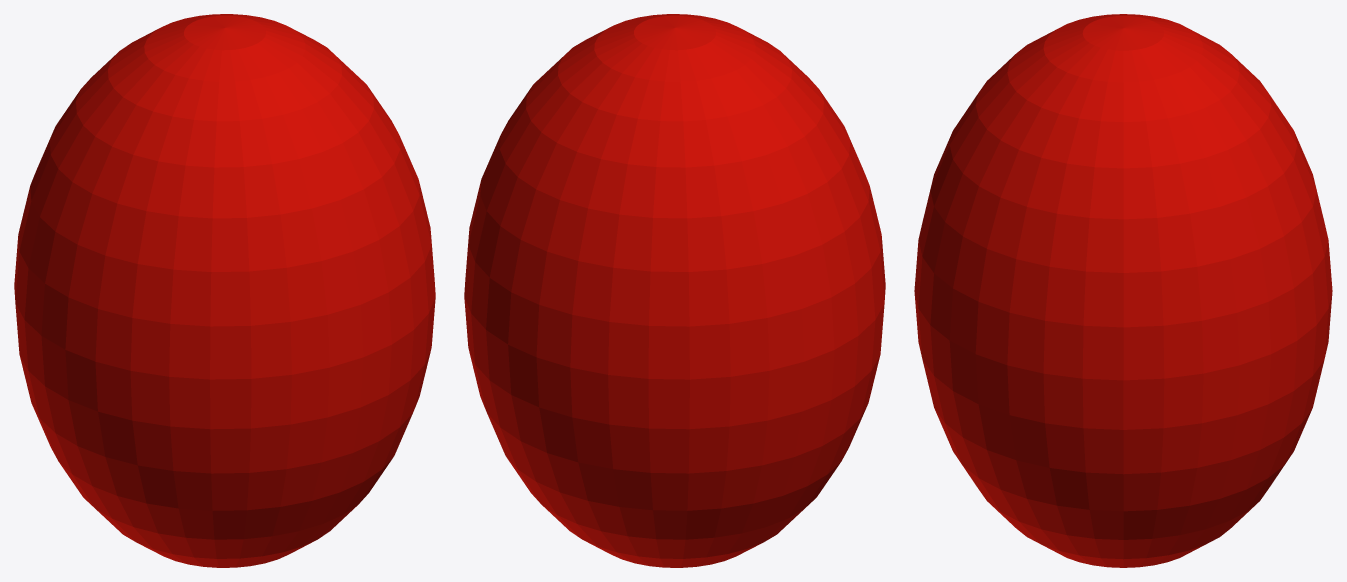
File: key_point.dae
3 views of the same model, side by side, from view 1: azimuth 30°, elevation 25°; view 2: azimuth 150°, elevation 25°; view 3: azimuth 270°, elevation 25° (orthographic).
Parts seen in each view (by area): view 1: Sphere; view 2: Sphere; view 3: Sphere.
Boxes of the visible parts, left/top/right/bottom form: Sphere: left=14, top=14, right=435, bottom=567; Sphere: left=464, top=14, right=885, bottom=567; Sphere: left=914, top=14, right=1332, bottom=567.
Size of the model in its own units: 0.5248 by 0.5184 by 0.7189.
